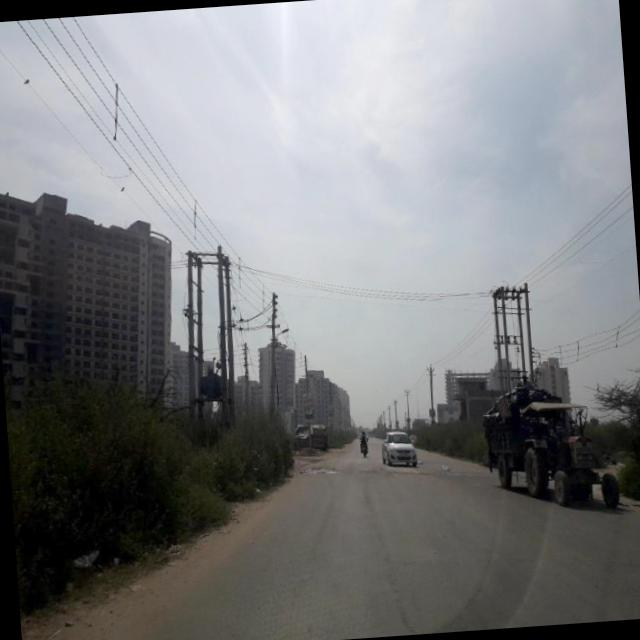crack: (358, 477, 412, 632)
